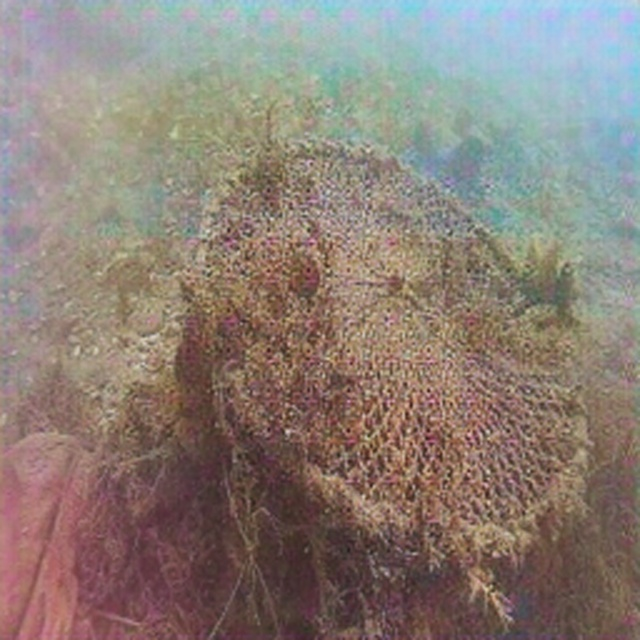mine: (192, 132, 590, 640)
